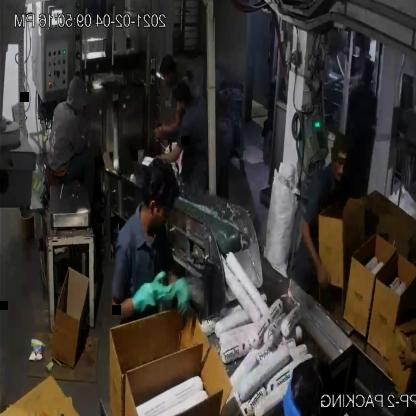glove: (128, 255, 172, 333), (170, 268, 196, 323)
no_glove: (298, 211, 338, 303), (151, 106, 184, 142), (152, 136, 184, 171), (389, 334, 416, 375)
